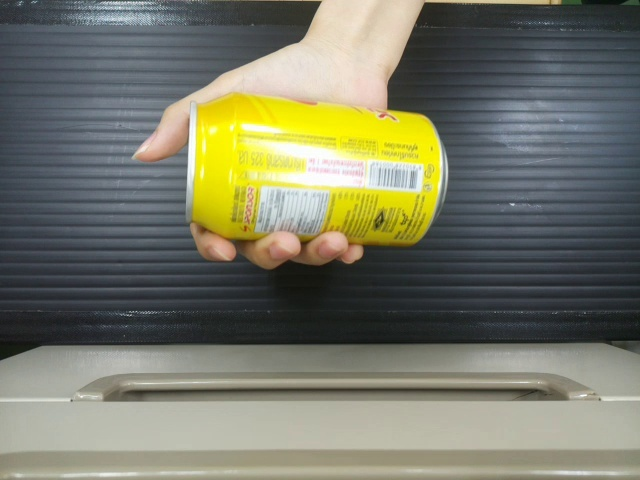can: (185, 91, 444, 237)
